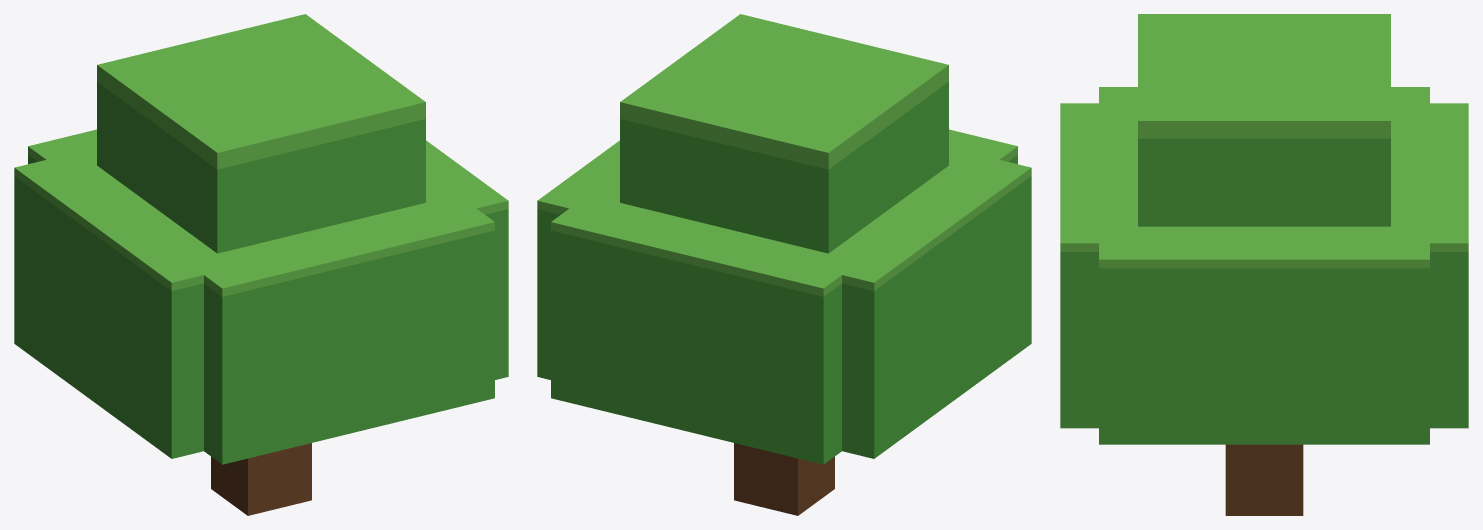
File: deco_tree_round_warm.glb
3 views of the same model, side by side, from view 1: azimuth 30°, elevation 25°; view 2: azimuth 150°, elevation 25°; view 3: azimuth 270°, elevation 25° (orthographic). The views are drawn at different scales.
Visible parts, largest first — view 1: model_0; view 2: model_0; view 3: model_0.
Boxes of the visible parts, left/top/right/bottom form: model_0: left=14, top=14, right=508, bottom=515; model_0: left=537, top=14, right=1031, bottom=515; model_0: left=1060, top=14, right=1468, bottom=515.
Size of the model in its own units: 1.68 by 1.96 by 1.68.
